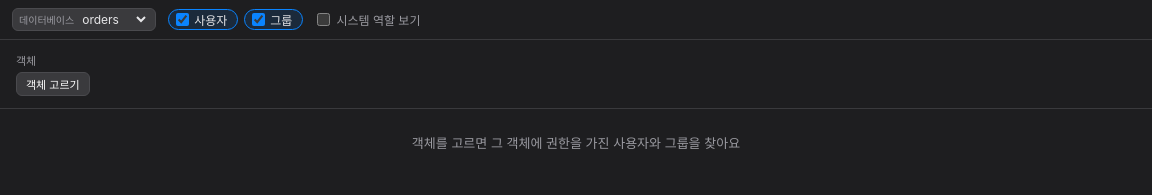
Test: a database whose privileges were read only in part › follows the database that is chosen
Expected: the text "객체가 많아 일부만 읽었어요" is not shown
Select "analytics" in the dropdown labelled "데이터베이스" at [114, 20], box [78,11,149,28]
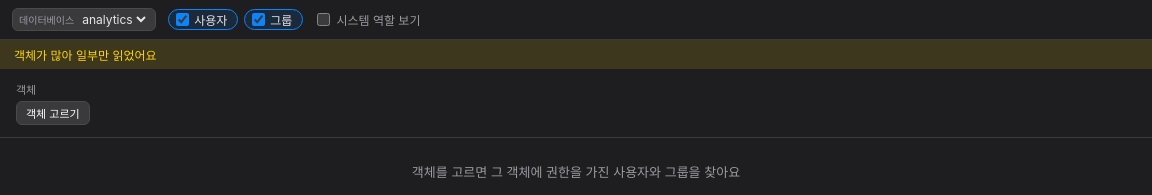
Expected: the text "객체가 많아 일부만 읽었어요" is shown, [0,40,1151,69]
Select "orders" in the dropdown labelled "데이터베이스" at [114, 20], box [78,11,149,28]
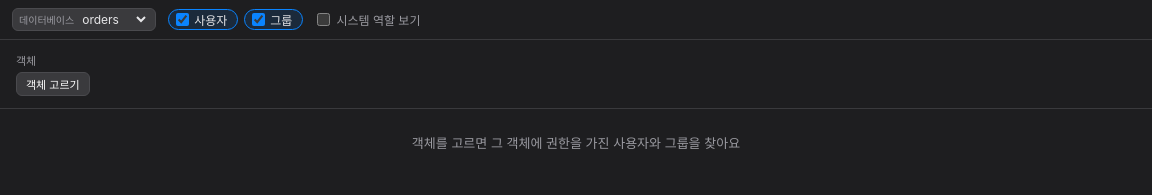
Expected: the text "객체가 많아 일부만 읽었어요" is gone
